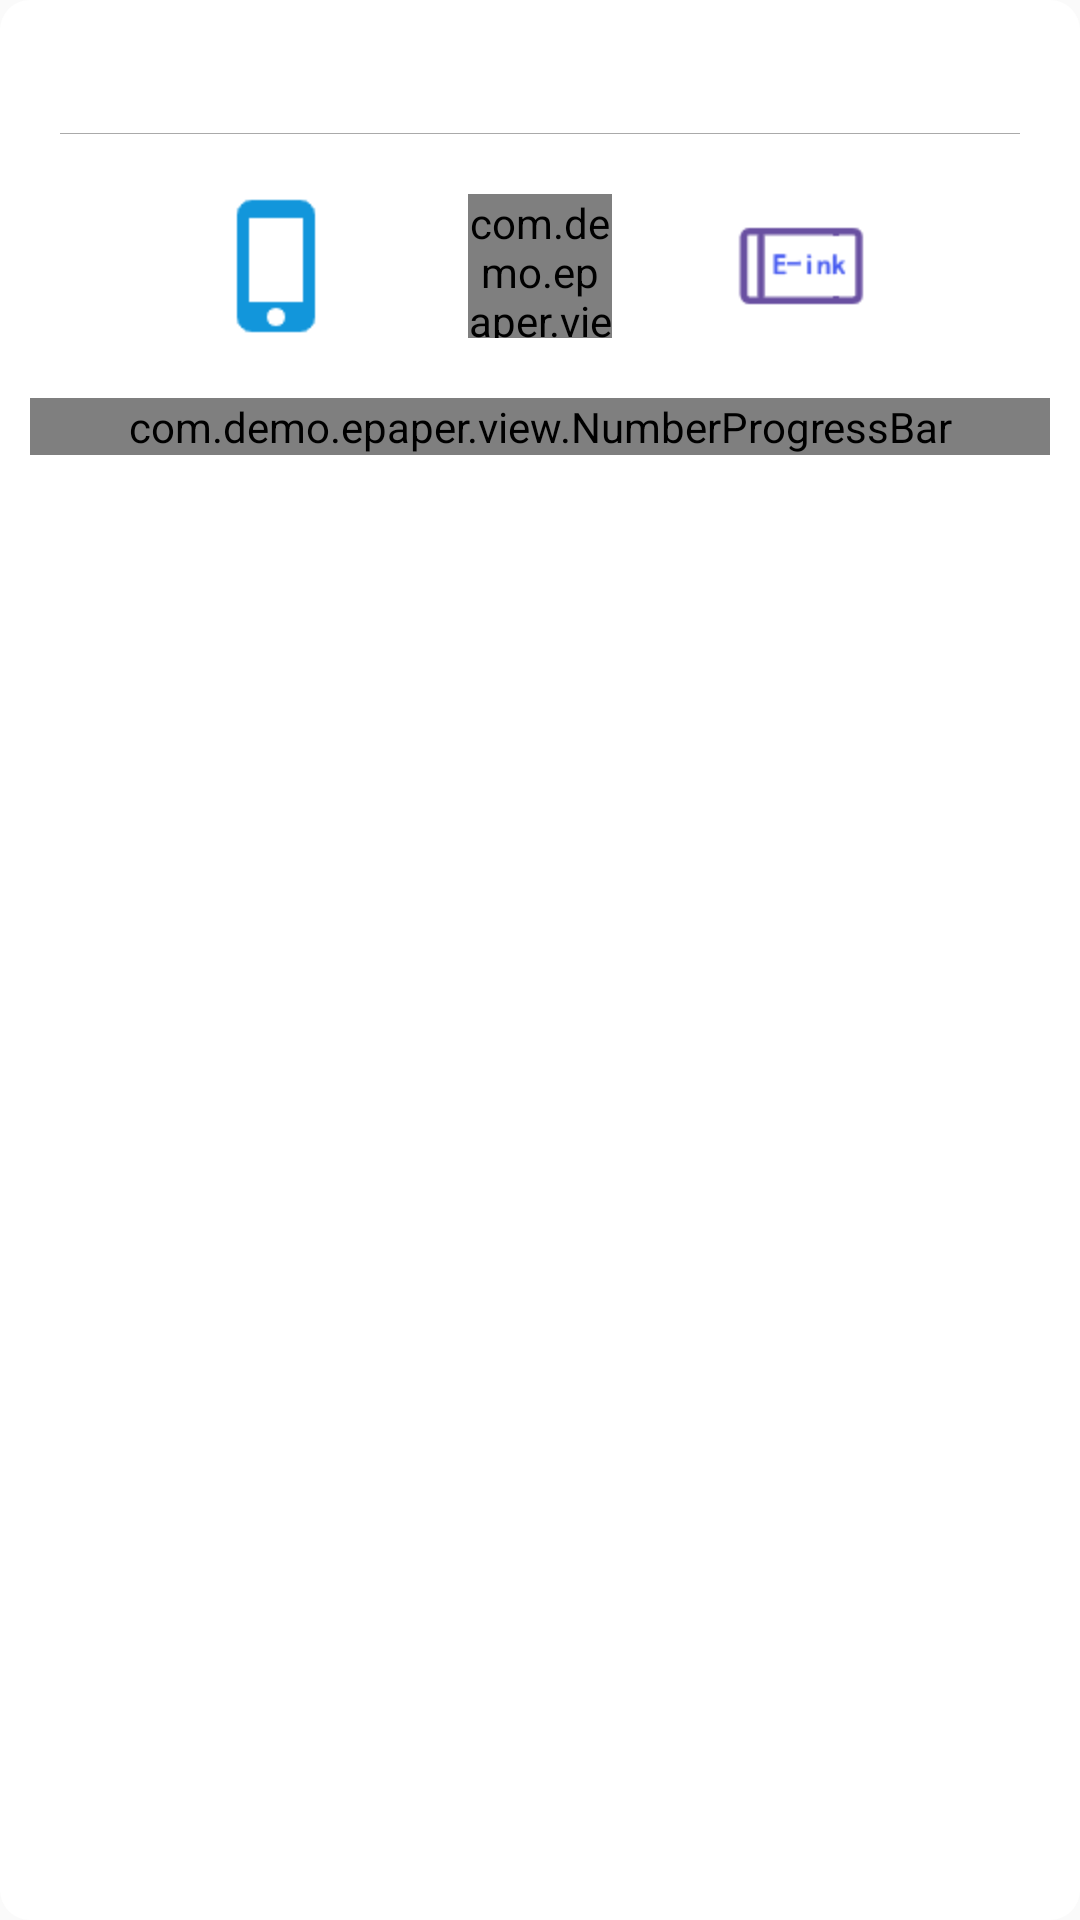

Where icons sit on this 1080w x 1920h app screen, as Rect(x1, y1, x2, y2):
phone: Rect(236, 199, 316, 333)
